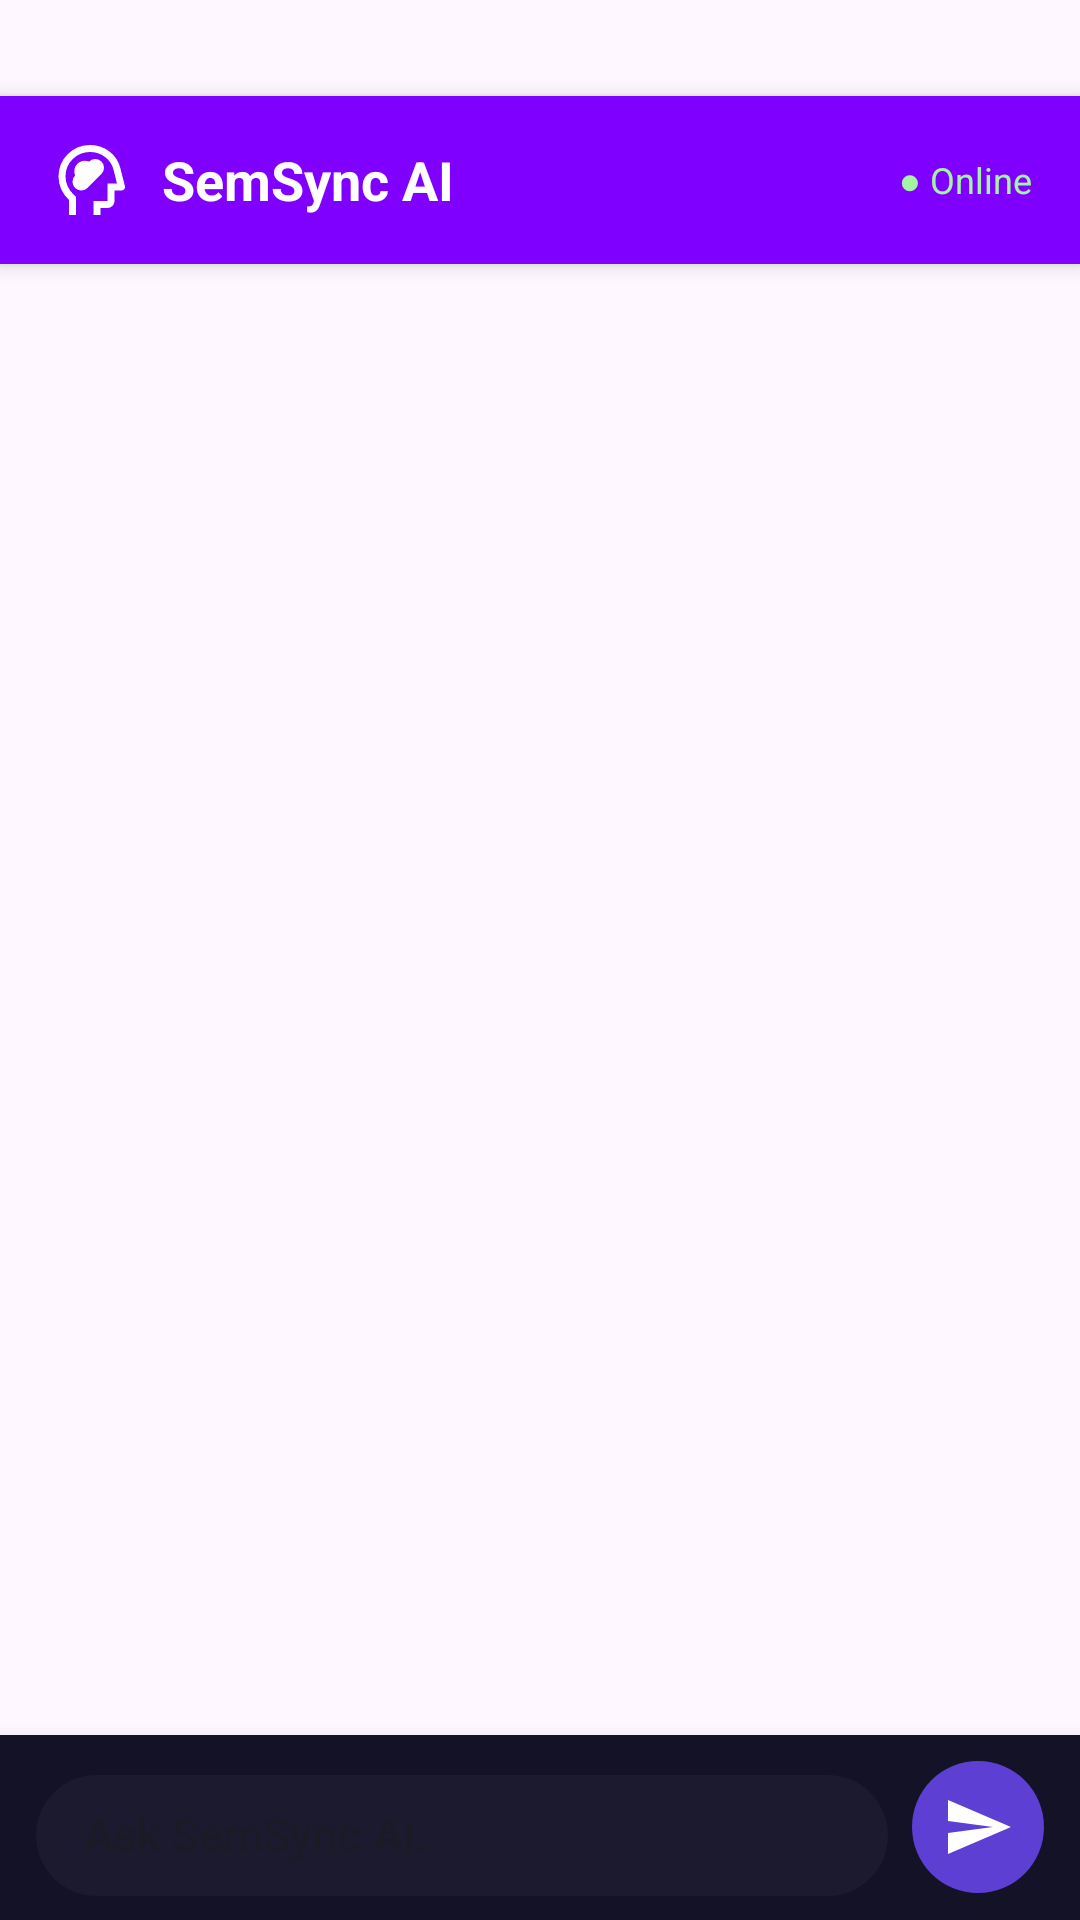

Screen size 1080 x 1920. Icon name, then its box in pixels as region(x1, y1, x2, y2):
ai chat: region(58, 145, 125, 215)
Send message: region(912, 1761, 1044, 1893)
